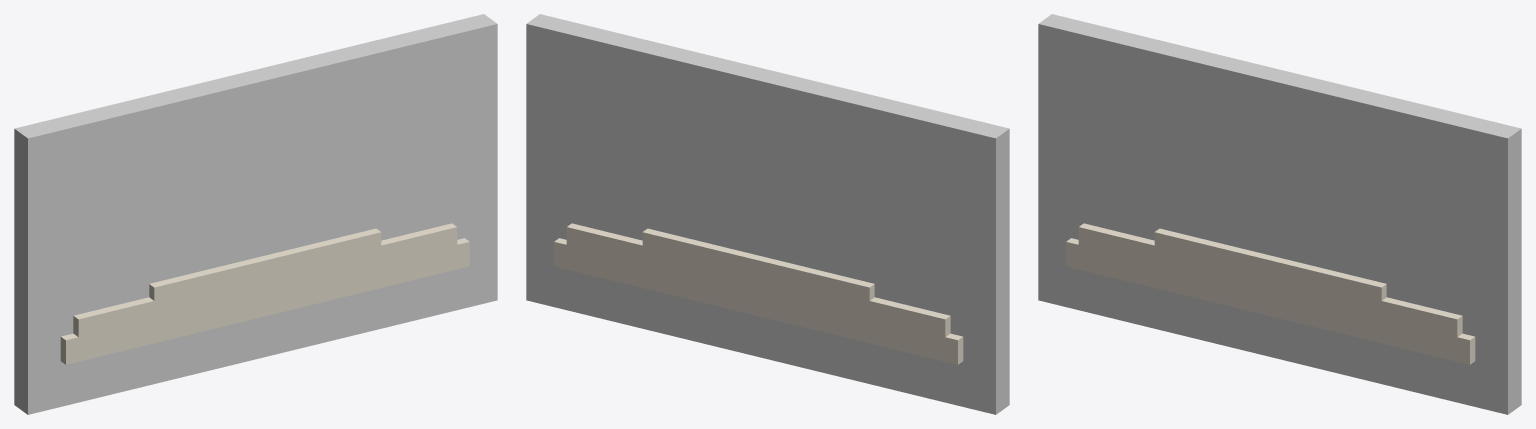
The model's file is MOD_SERVICE_WINDOW_CAFE_001_LOD_MAP.glb.
3 views of the same model, side by side, from view 1: azimuth 30°, elevation 25°; view 2: azimuth 150°, elevation 25°; view 3: azimuth 330°, elevation 25° (orthographic).
Parts seen in each view (by area): view 1: MOD_SERVICE_WINDOW_CAFE_001_BAKERY_DISPLAY_COUNTER_OPENING_M (×2), MOD_SERVICE_WINDOW_CAFE_001_SPLIT_SERVICE_DISPLAY_WINDOW_MAP (×2), MOD_SERVICE_WINDOW_CAFE_001_FULL_WIDTH_SERVICE_WINDOW_MAP_FR, MOD_SERVICE_WINDOW_CAFE_001_COMPACT_TAKEAWAY_HATCH_MAP_FRAME, MOD_SERVICE_WINDOW_CAFE_001_COMPACT_TAKEAWAY_HATCH_MAP_COUNT, MOD_SERVICE_WINDOW_CAFE_001_FULL_WIDTH_SERVICE_WINDOW_MAP_CO; view 2: MOD_SERVICE_WINDOW_CAFE_001_SPLIT_SERVICE_DISPLAY_WINDOW_MAP, MOD_SERVICE_WINDOW_CAFE_001_BAKERY_DISPLAY_COUNTER_OPENING_M (×2), MOD_SERVICE_WINDOW_CAFE_001_COMPACT_TAKEAWAY_HATCH_MAP_FRAME, MOD_SERVICE_WINDOW_CAFE_001_FULL_WIDTH_SERVICE_WINDOW_MAP_FR, MOD_SERVICE_WINDOW_CAFE_001_FULL_WIDTH_SERVICE_WINDOW_MAP_CO, MOD_SERVICE_WINDOW_CAFE_001_COMPACT_TAKEAWAY_HATCH_MAP_COUNT; view 3: MOD_SERVICE_WINDOW_CAFE_001_SPLIT_SERVICE_DISPLAY_WINDOW_MAP, MOD_SERVICE_WINDOW_CAFE_001_BAKERY_DISPLAY_COUNTER_OPENING_M (×2), MOD_SERVICE_WINDOW_CAFE_001_COMPACT_TAKEAWAY_HATCH_MAP_FRAME, MOD_SERVICE_WINDOW_CAFE_001_FULL_WIDTH_SERVICE_WINDOW_MAP_FR, MOD_SERVICE_WINDOW_CAFE_001_FULL_WIDTH_SERVICE_WINDOW_MAP_CO, MOD_SERVICE_WINDOW_CAFE_001_COMPACT_TAKEAWAY_HATCH_MAP_COUNT.
Boxes of the visible parts, <box> form: MOD_SERVICE_WINDOW_CAFE_001_BAKERY_DISPLAY_COUNTER_OPENING_M (×2): <box>14,14,497,414</box>; MOD_SERVICE_WINDOW_CAFE_001_SPLIT_SERVICE_DISPLAY_WINDOW_MAP (×2): <box>57,46,468,382</box>; MOD_SERVICE_WINDOW_CAFE_001_FULL_WIDTH_SERVICE_WINDOW_MAP_FR: <box>42,58,482,378</box>; MOD_SERVICE_WINDOW_CAFE_001_COMPACT_TAKEAWAY_HATCH_MAP_FRAME: <box>130,103,394,301</box>; MOD_SERVICE_WINDOW_CAFE_001_COMPACT_TAKEAWAY_HATCH_MAP_COUNT: <box>149,228,381,311</box>; MOD_SERVICE_WINDOW_CAFE_001_FULL_WIDTH_SERVICE_WINDOW_MAP_CO: <box>73,223,457,343</box>; MOD_SERVICE_WINDOW_CAFE_001_SPLIT_SERVICE_DISPLAY_WINDOW_MAP: <box>555,46,966,392</box>; MOD_SERVICE_WINDOW_CAFE_001_BAKERY_DISPLAY_COUNTER_OPENING_M (×2): <box>526,14,1009,414</box>; MOD_SERVICE_WINDOW_CAFE_001_COMPACT_TAKEAWAY_HATCH_MAP_FRAME: <box>629,103,893,301</box>; MOD_SERVICE_WINDOW_CAFE_001_FULL_WIDTH_SERVICE_WINDOW_MAP_FR: <box>541,58,981,380</box>; MOD_SERVICE_WINDOW_CAFE_001_FULL_WIDTH_SERVICE_WINDOW_MAP_CO: <box>566,223,950,343</box>; MOD_SERVICE_WINDOW_CAFE_001_COMPACT_TAKEAWAY_HATCH_MAP_COUNT: <box>642,228,874,304</box>; MOD_SERVICE_WINDOW_CAFE_001_SPLIT_SERVICE_DISPLAY_WINDOW_MAP: <box>1067,46,1478,392</box>; MOD_SERVICE_WINDOW_CAFE_001_BAKERY_DISPLAY_COUNTER_OPENING_M (×2): <box>1038,14,1521,414</box>; MOD_SERVICE_WINDOW_CAFE_001_COMPACT_TAKEAWAY_HATCH_MAP_FRAME: <box>1141,103,1405,301</box>; MOD_SERVICE_WINDOW_CAFE_001_FULL_WIDTH_SERVICE_WINDOW_MAP_FR: <box>1053,58,1493,380</box>; MOD_SERVICE_WINDOW_CAFE_001_FULL_WIDTH_SERVICE_WINDOW_MAP_CO: <box>1078,223,1462,343</box>; MOD_SERVICE_WINDOW_CAFE_001_COMPACT_TAKEAWAY_HATCH_MAP_COUNT: <box>1154,228,1386,304</box>.
Bounding box in the file's own units: 3.2 × 1.8 × 0.28.
